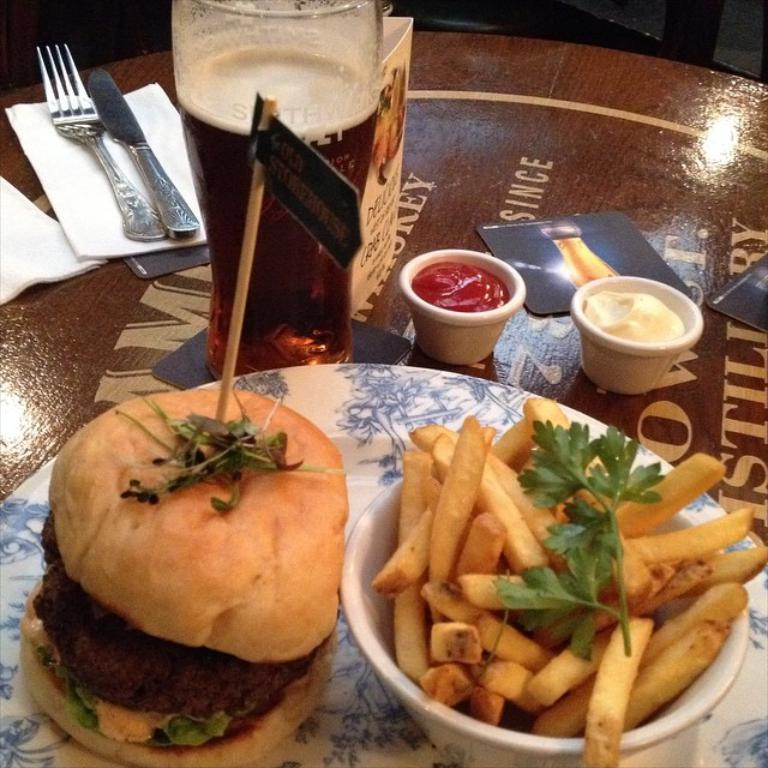French fries: (348, 429, 705, 711)
